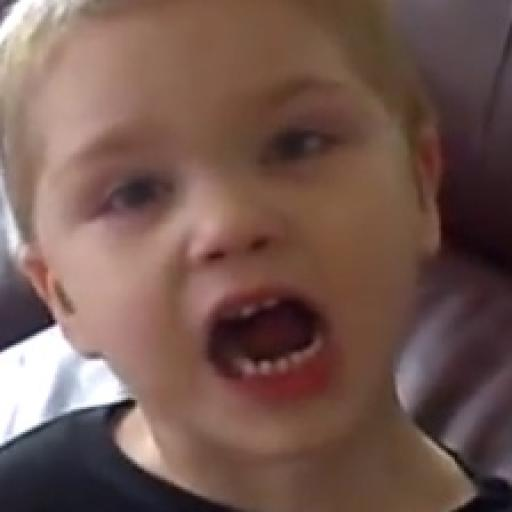Autism: (6, 2, 512, 512)
